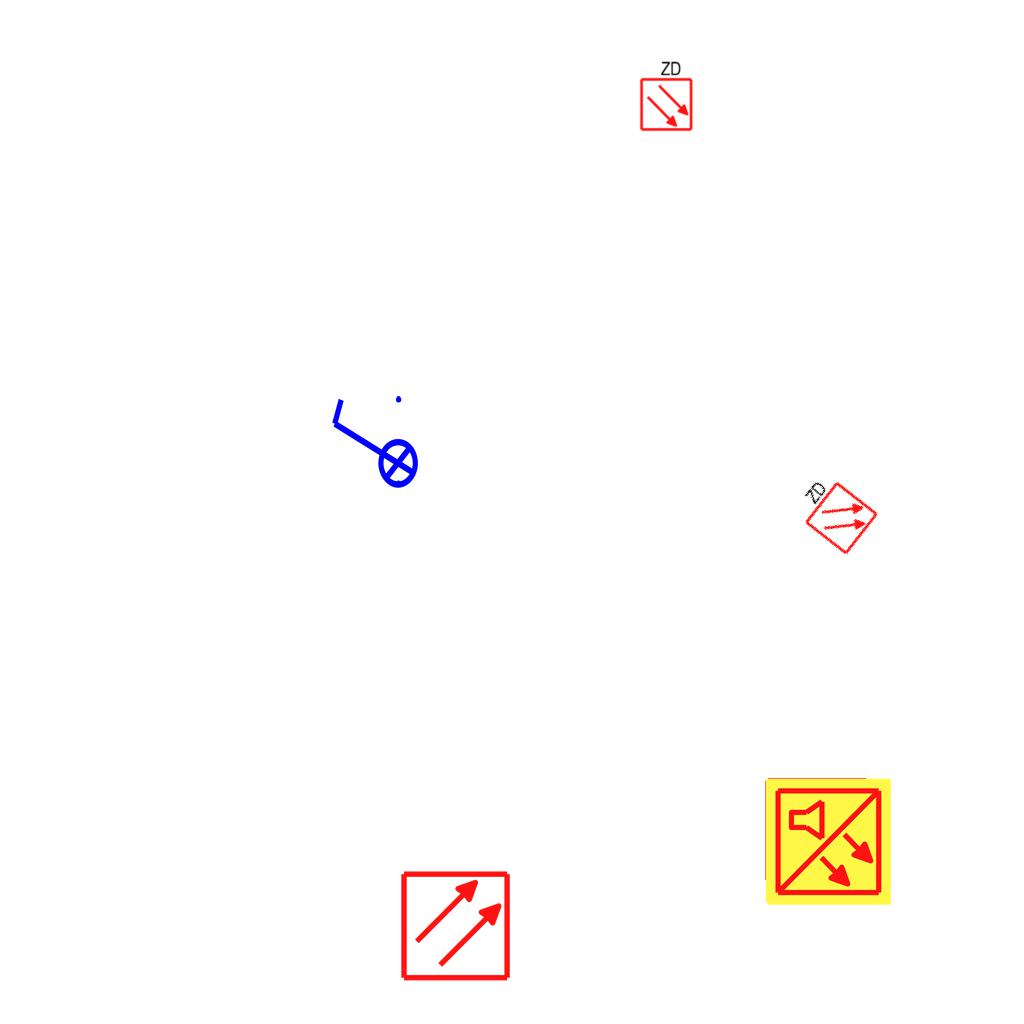Ausschalter_beleuchtet: (324, 390, 420, 502)
OKW_Multisensormelder_(Kombination_optischer_Rauch-Kahlenmonoxid_Waerme-Melder): (762, 776, 894, 908)
RMO_Rauchmelder_optischer: (399, 869, 512, 982)
ZD_Melder_in_Zwischendecke_mit_Revisionsoeffnung_mind_40_x_40_cm: (786, 467, 881, 559), (637, 58, 694, 132)
